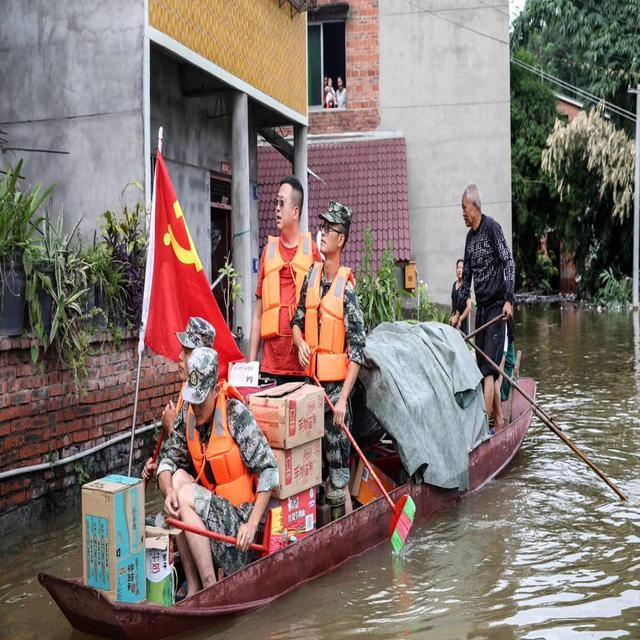Person-RiskLevel3: (145, 319, 273, 607), (301, 199, 372, 517), (448, 183, 521, 440), (259, 174, 313, 389)
